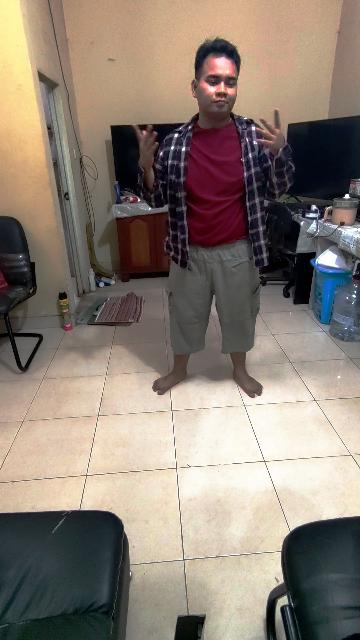berdiri: (138, 35, 290, 393)
